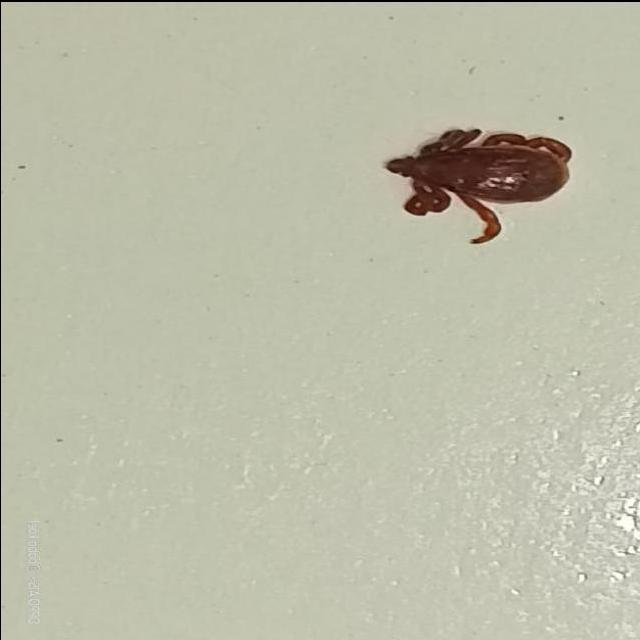Rhipicephalus Sanguineus-M: (382, 125, 570, 244)
